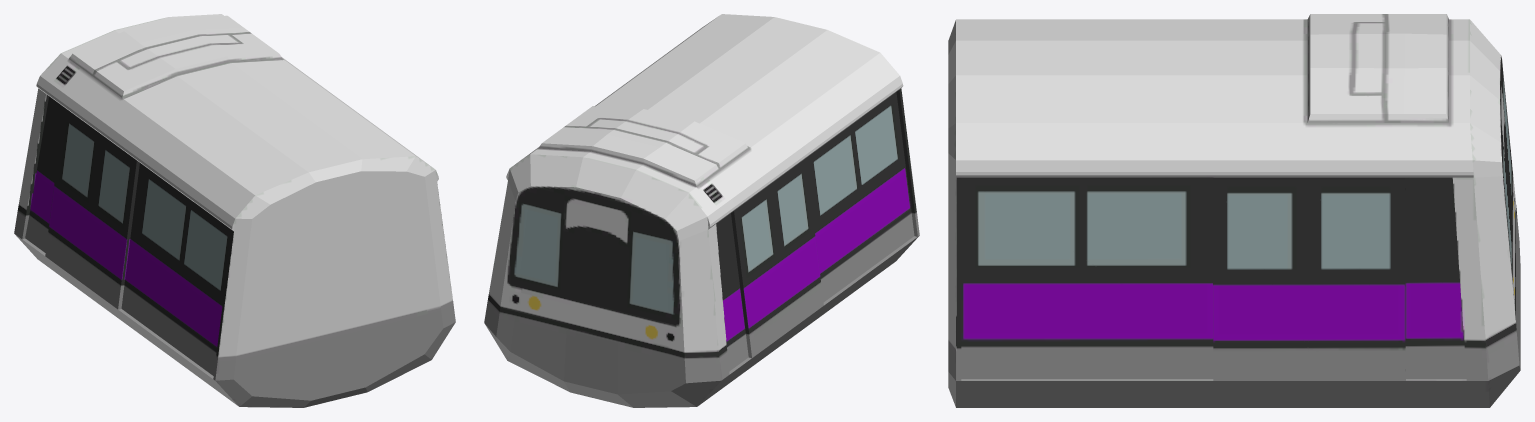
The model's file is MovingPlatformMRT_Purple.fbx.
The picture shows the model from 3 angles, left to right: view 1: azimuth 30°, elevation 25°; view 2: azimuth 150°, elevation 25°; view 3: azimuth 270°, elevation 25°; orthographic projection. The views are drawn at different scales.
Visible parts, largest first — view 1: Cube.016; view 2: Cube.016; view 3: Cube.016.
Part boxes in pixels (box(x1,y1,x2,y2)): Cube.016: box(14, 14, 455, 407); Cube.016: box(484, 14, 919, 407); Cube.016: box(948, 14, 1520, 407).
Size of the model in its own units: 276 by 263 by 430.
